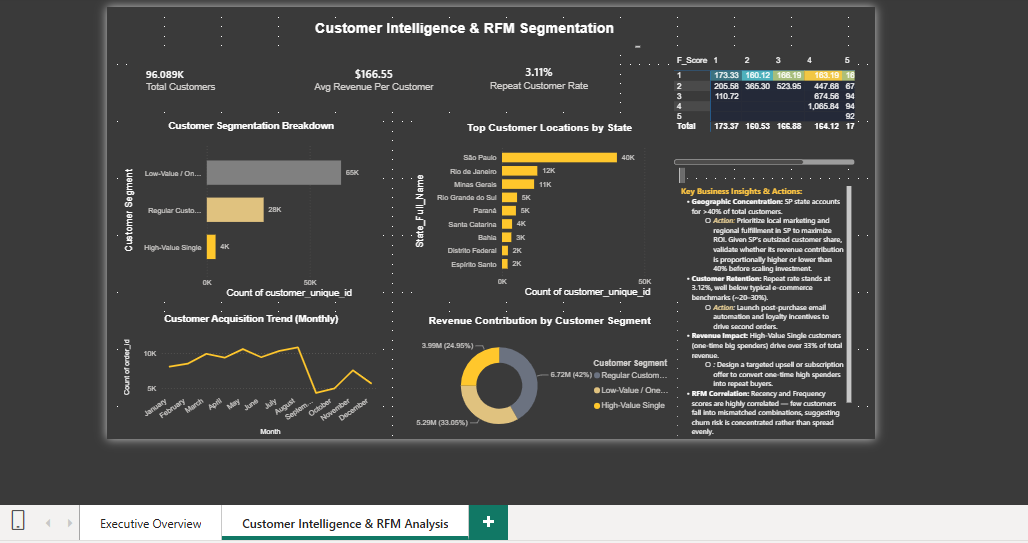

The page's visual inventory and layout, read from the dashboard file:
{"tool":"powerbi","page":{"name":"Customer Intelligence & RFM Analysis","canvas":[1280,720],"ordinal":1},"visuals":[{"type":"textbox","title":"Customer Intelligence & RFM Segmentation","box":[342.3,21.7,552.5,50.7],"z":0},{"type":"cardVisual","fields":{"Data":["Count(public olist_customers.customer_unique_id)"]},"box":[35,75,263.3,88.3],"z":1000},{"type":"cardVisual","fields":{"Data":["_Key Measures.Avg Revenue Per Customer"]},"box":[298.3,75,291.7,88.3],"z":2000},{"type":"cardVisual","fields":{"Data":["_Key Measures.Repeat Customer Rate"]},"box":[590,71.7,258.3,91.7],"z":3000},{"type":"barChart","title":"Customer Segmentation Breakdown","fields":{"Category":["public olist_customers.Customer Segment"],"Y":["Count(public olist_customers.customer_unique_id)"]},"box":[24,190.4,433.6,299.2],"z":4000},{"type":"clusteredBarChart","title":"Top Customer Locations by State","fields":{"Category":["public olist_customers.State_Full_Name"],"Y":["Count(public olist_customers.customer_unique_id)"]},"box":[507.6,190.5,459.2,297.6],"z":5000},{"type":"donutChart","title":"Revenue Contribution by Customer Segment","fields":{"Category":["public olist_customers.Customer Segment"],"Y":["Sum(public olist_order_payments.payment_value)"]},"box":[491.2,512,459.2,208],"z":6000},{"type":"textbox","box":[951.3,293.8,293.8,426.2],"z":7000},{"type":"lineChart","title":"Customer Acquisition Trend (Monthly)","fields":{"Category":["public olist_orders.order_purchase_timestamp.Variation.Date Hierarchy.Month"],"Y":["CountNonNull(public olist_orders.order_id)"]},"box":[24,512,434,208],"z":8000},{"type":"pivotTable","fields":{"Columns":["RFM_Table.R_Score"],"Rows":["RFM_Table.F_Score"],"Values":["Avg(RFM_Table.Monetary)"]},"box":[939.6,75.6,311.3,193.5],"z":8001}]}

Visuals, with their boxes on the page's 1280x720 design canvas (x1, y1, x2, y2). These are canvas units, not pixel positions in the 1028x543 screenshot, which may show the page scaled, cropped or inside an application window:
"Customer Intelligence & RFM Segmentation" textbox: [342,22,895,72]
cardVisual - Count(public olist_customers.customer_unique_id): [35,75,298,163]
cardVisual - _Key Measures.Avg Revenue Per Customer: [298,75,590,163]
cardVisual - _Key Measures.Repeat Customer Rate: [590,72,848,163]
"Customer Segmentation Breakdown" barChart: [24,190,458,490]
"Top Customer Locations by State" clusteredBarChart: [508,190,967,488]
"Revenue Contribution by Customer Segment" donutChart: [491,512,950,720]
textbox: [951,294,1245,720]
"Customer Acquisition Trend (Monthly)" lineChart: [24,512,458,720]
pivotTable - RFM_Table.R_Score x RFM_Table.F_Score: [940,76,1251,269]
